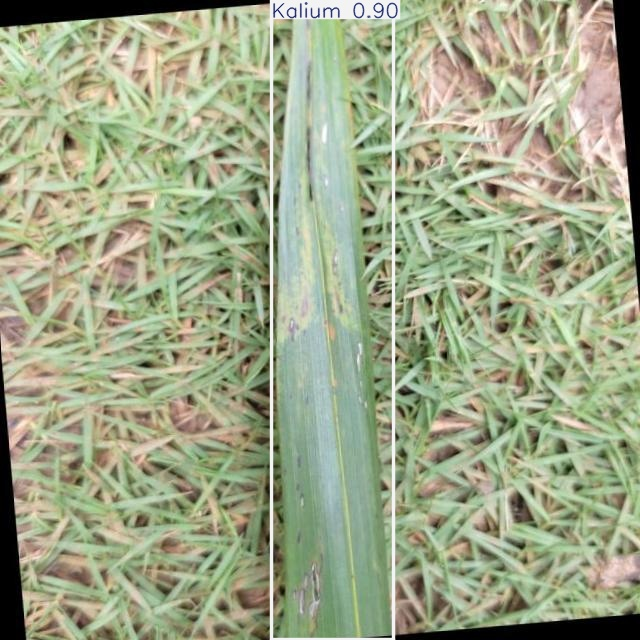Kalium: (271, 0, 394, 640)
